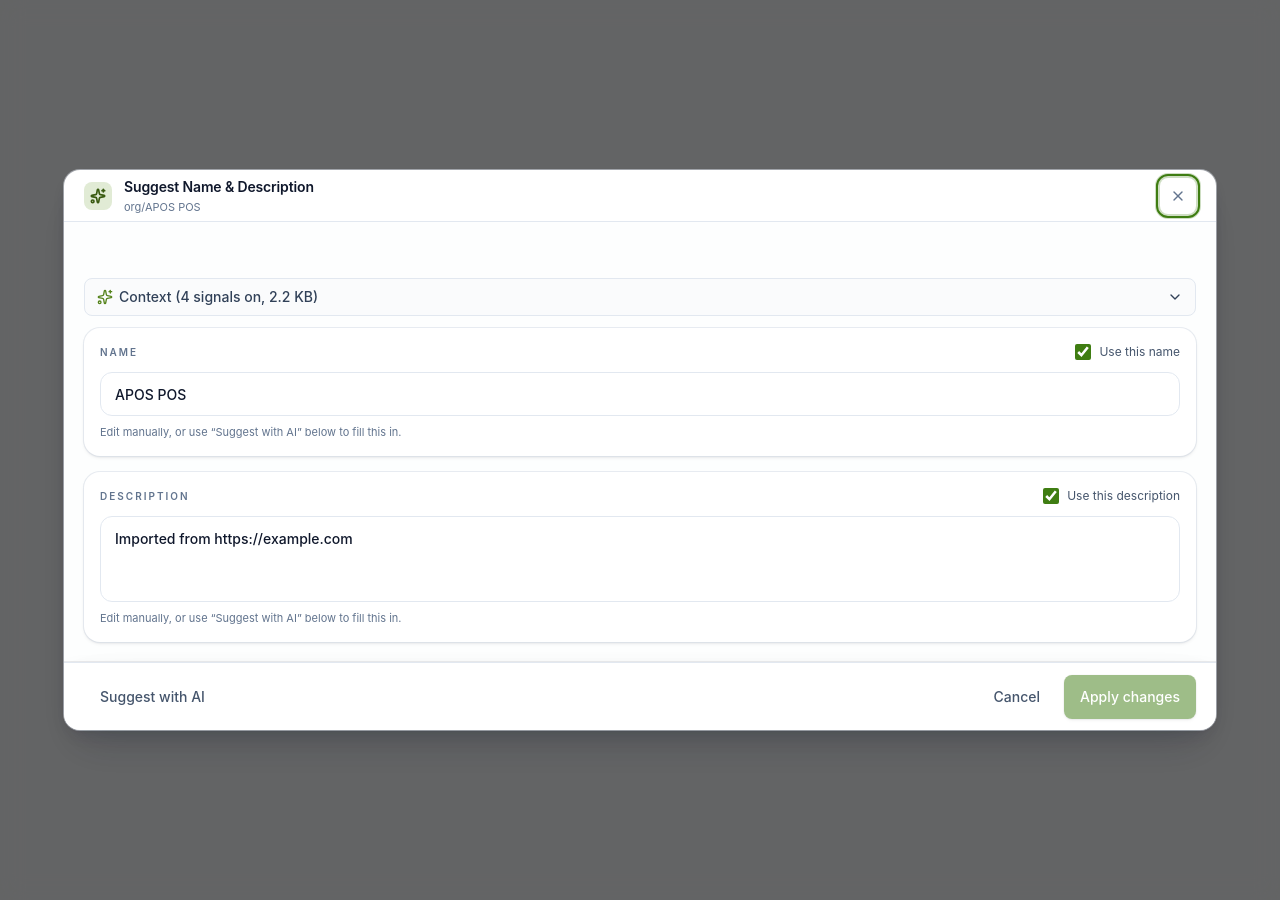
Test case: SuggestNameDescriptionModal — graceful degradation › fetches a suggestion only after the user clicks Suggest
This screenshot has width=1280, height=900.
What coordinates should you click on to do the following:
click the button "Suggest with AI"
I would click on:
 (152, 696)
Its box is [84, 674, 221, 718].
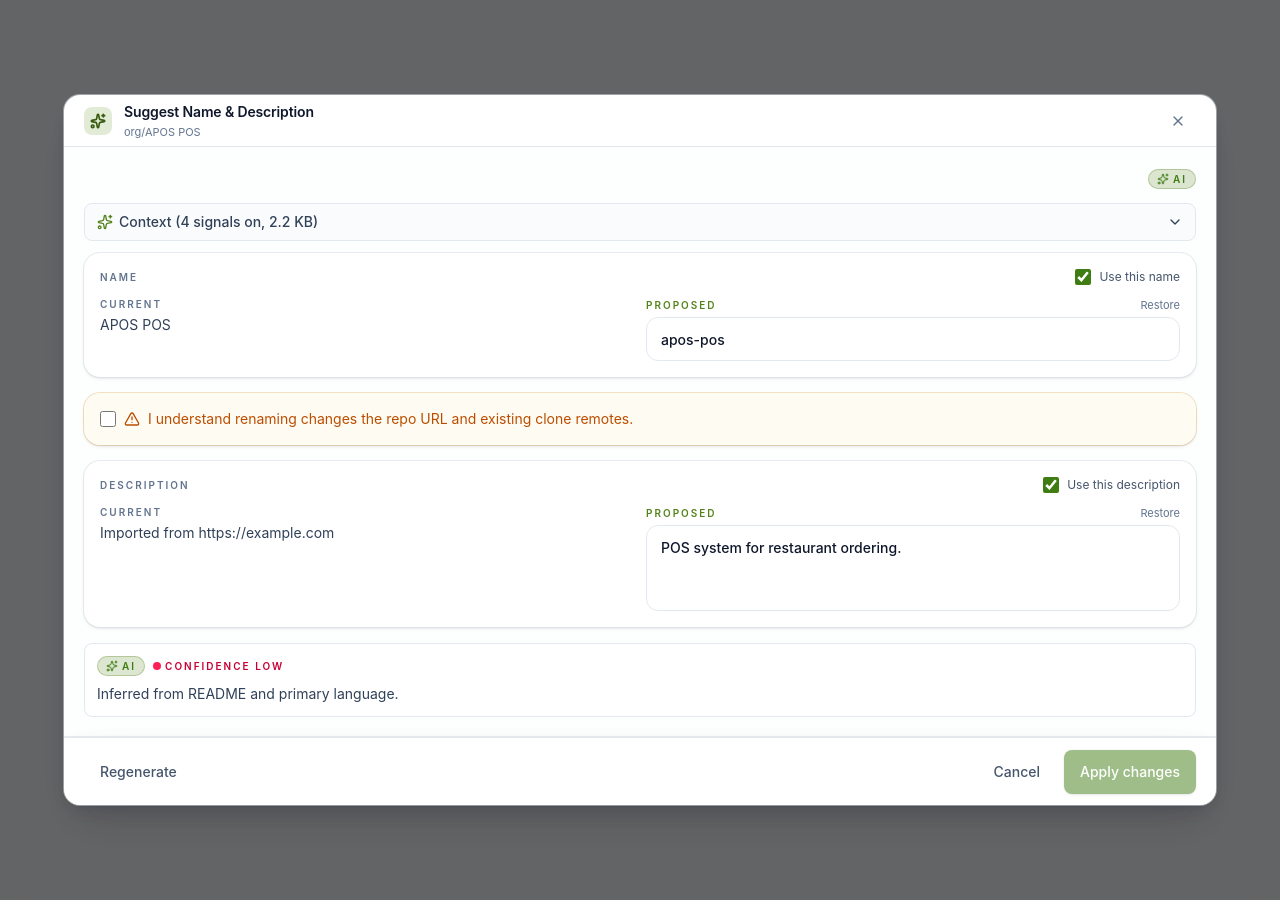
Expected: the field showing "apos-pos" is shown, [646, 317, 1180, 361]
Expected: the text box showing "POS system for restaurant ordering." is shown, [646, 525, 1180, 611]
Expected: the text "Inferred from README and primary language." is shown, [97, 685, 399, 702]
